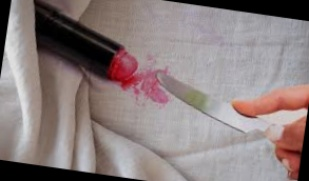lipstick: (124, 55, 177, 115)
